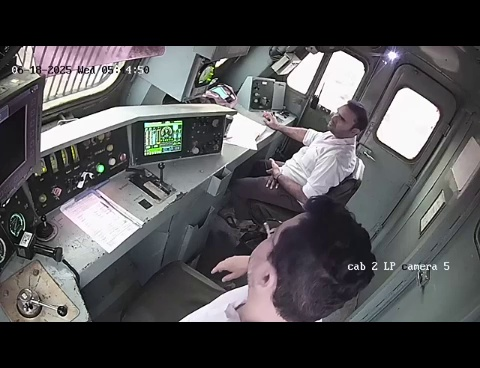brake_released: (1, 255, 103, 320)
horn_inactive: (30, 201, 68, 253)
